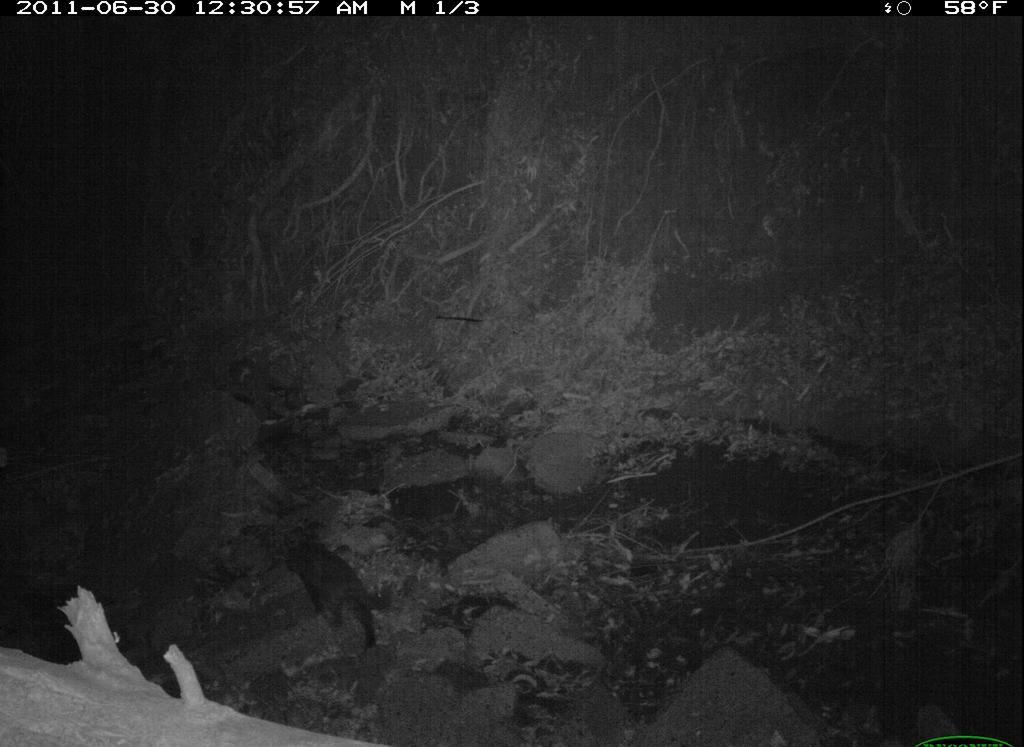cat: (281, 534, 397, 655)
